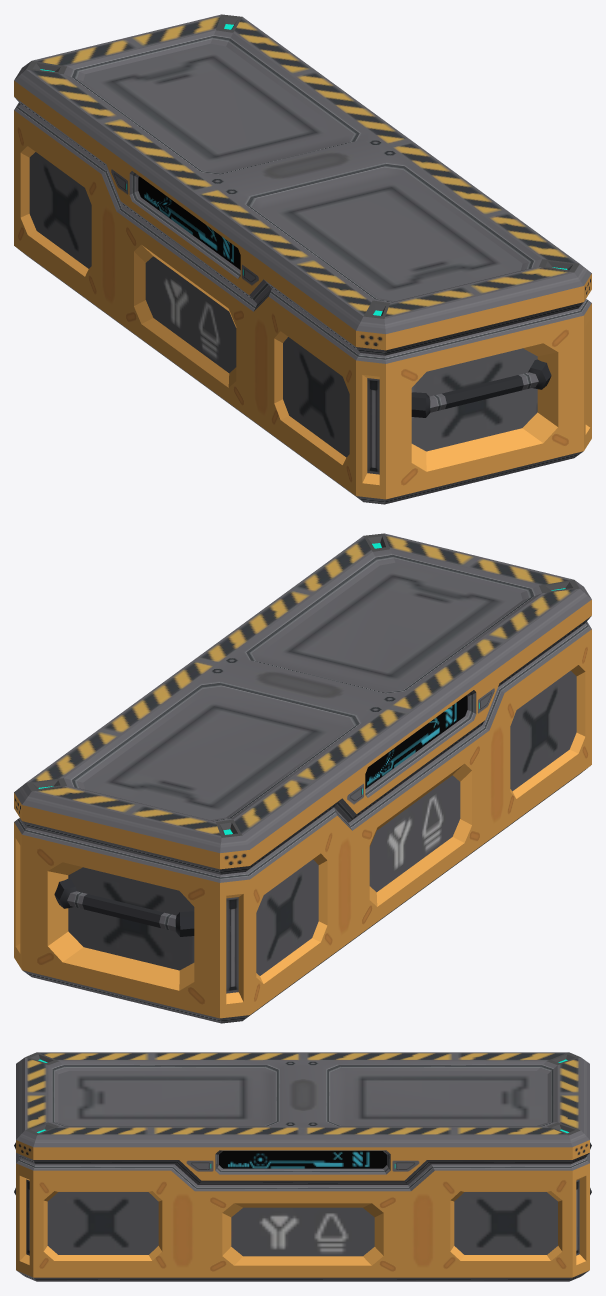
Rendered from cyber_SM_Wep_Missile_Crate_01.gltf.
3 renders of one model, top to bottom at view 1: azimuth 30°, elevation 25°; view 2: azimuth 150°, elevation 25°; view 3: azimuth 270°, elevation 25°, orthographic. The views are drawn at different scales.
Visible parts, largest first — view 1: SM_Wep_Missile_Crate_01; view 2: SM_Wep_Missile_Crate_01; view 3: SM_Wep_Missile_Crate_01.
Part boxes in pixels (x1,y1,x2,y2): SM_Wep_Missile_Crate_01: (14,14,591,504); SM_Wep_Missile_Crate_01: (14,533,591,1023); SM_Wep_Missile_Crate_01: (14,1052,591,1281).
Bounding box in the file's own units: 0.6541 × 0.4916 × 1.76.
1 material, 1 textured.
